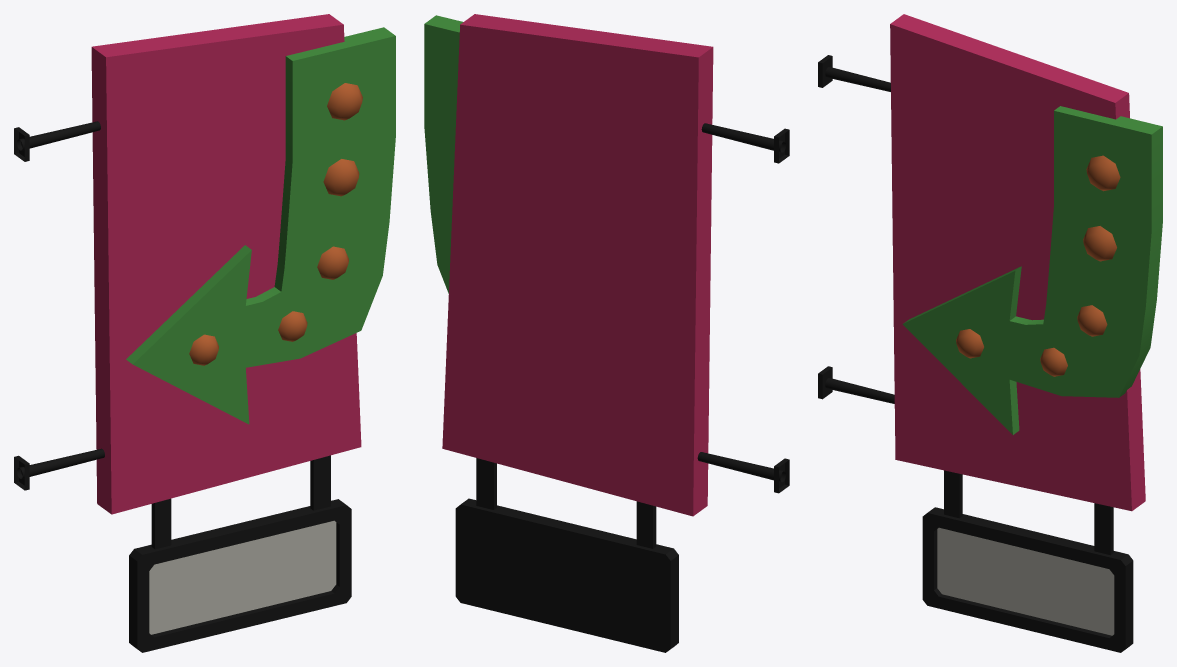
Rendered from Insegna_Freccia.FBX.
3 views of the same model, side by side, from view 1: azimuth 30°, elevation 25°; view 2: azimuth 150°, elevation 25°; view 3: azimuth 330°, elevation 25° (orthographic). The views are drawn at different scales.
Visible parts, largest first — view 1: Sphere002; view 2: Sphere002; view 3: Sphere002.
Part boxes in pixels (bbox=[...]): Sphere002: bbox=[14, 14, 395, 652]; Sphere002: bbox=[424, 14, 789, 652]; Sphere002: bbox=[818, 14, 1162, 652].
Bounding box in the file's own units: 114 × 183 × 15.27.
